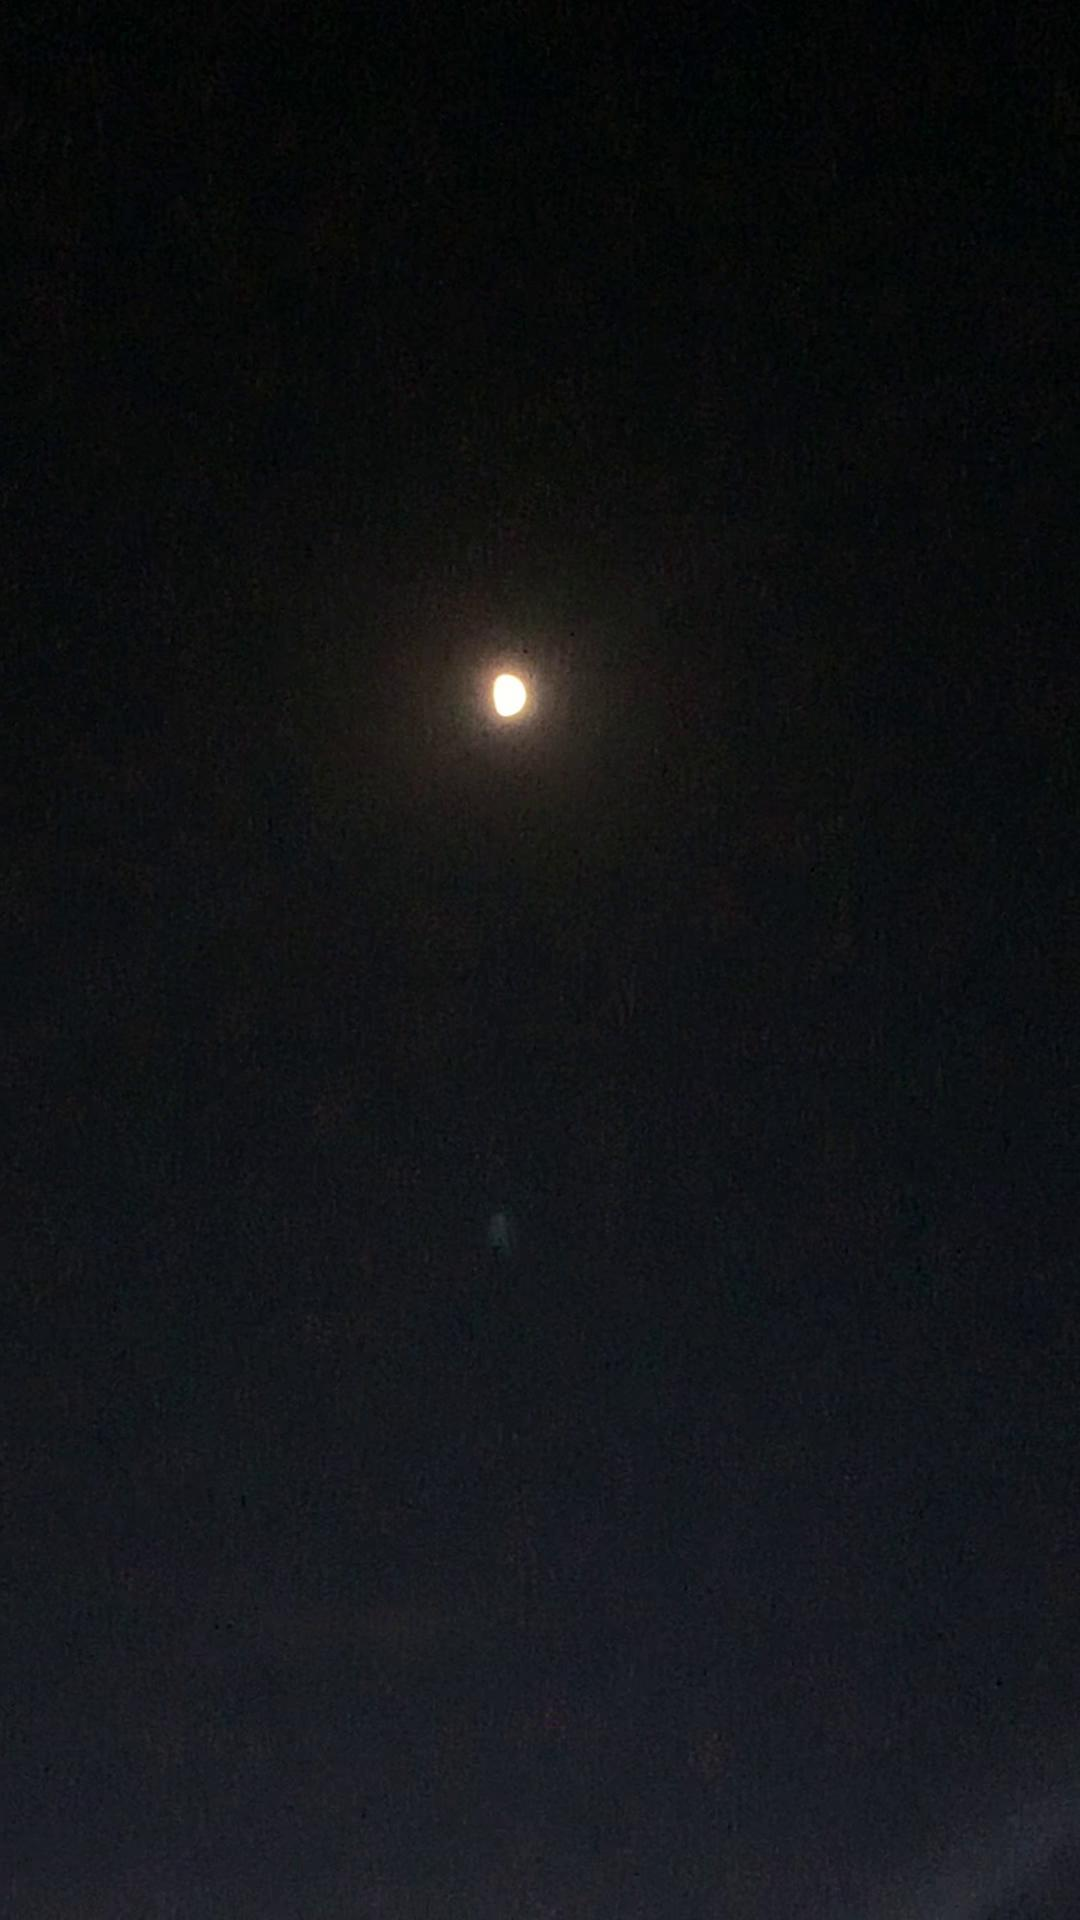moon: (469, 657, 551, 749)
